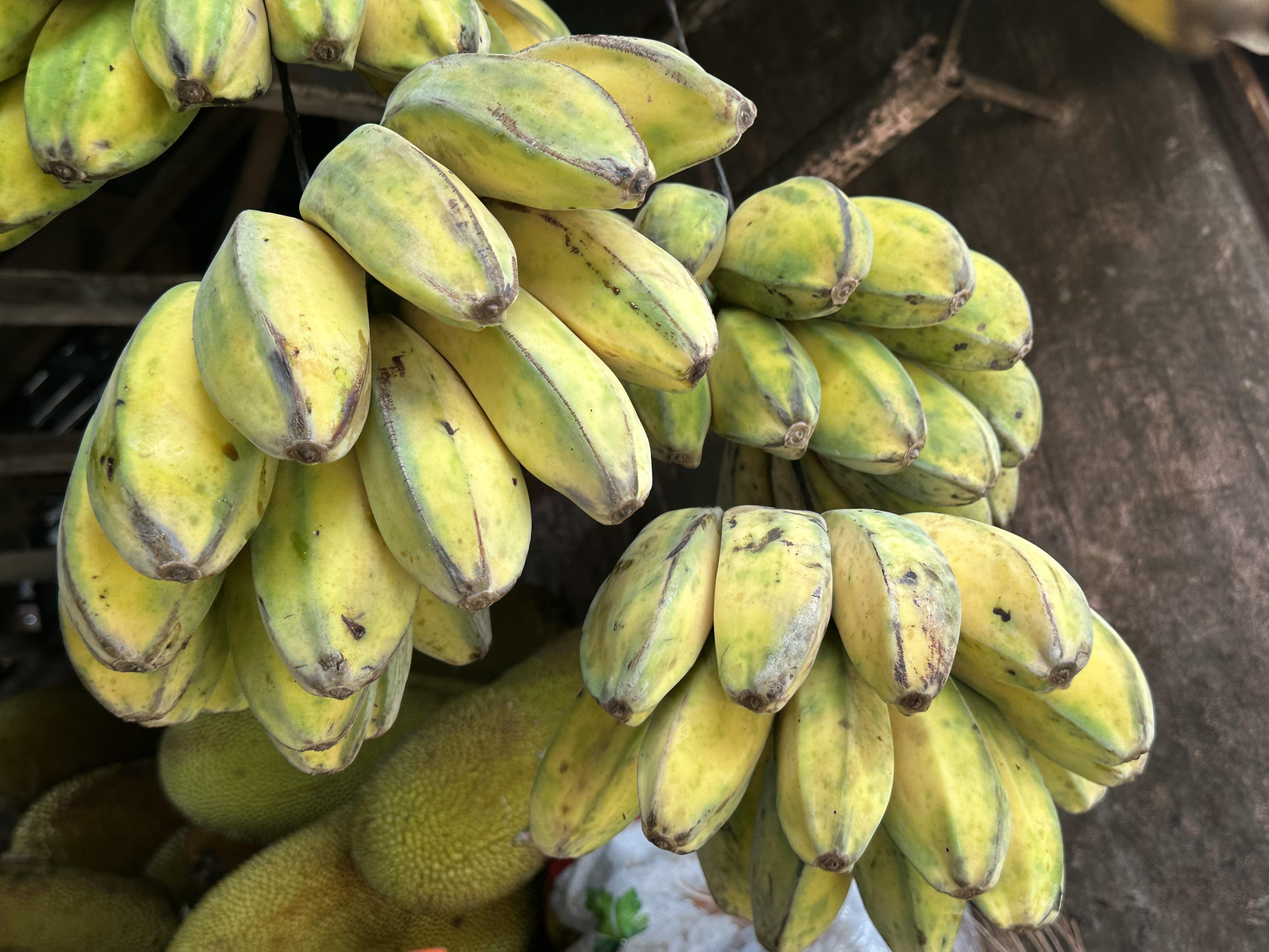underripe: (56, 33, 758, 778), (526, 502, 1156, 952), (623, 173, 1043, 531), (0, 0, 573, 255)
